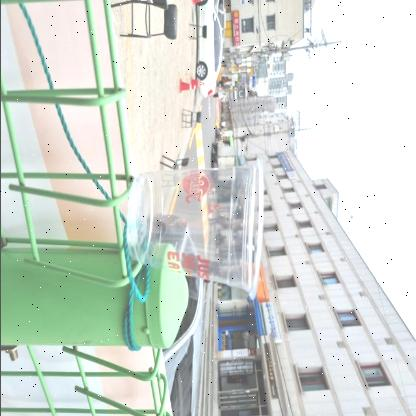Others: (117, 151, 269, 309)
